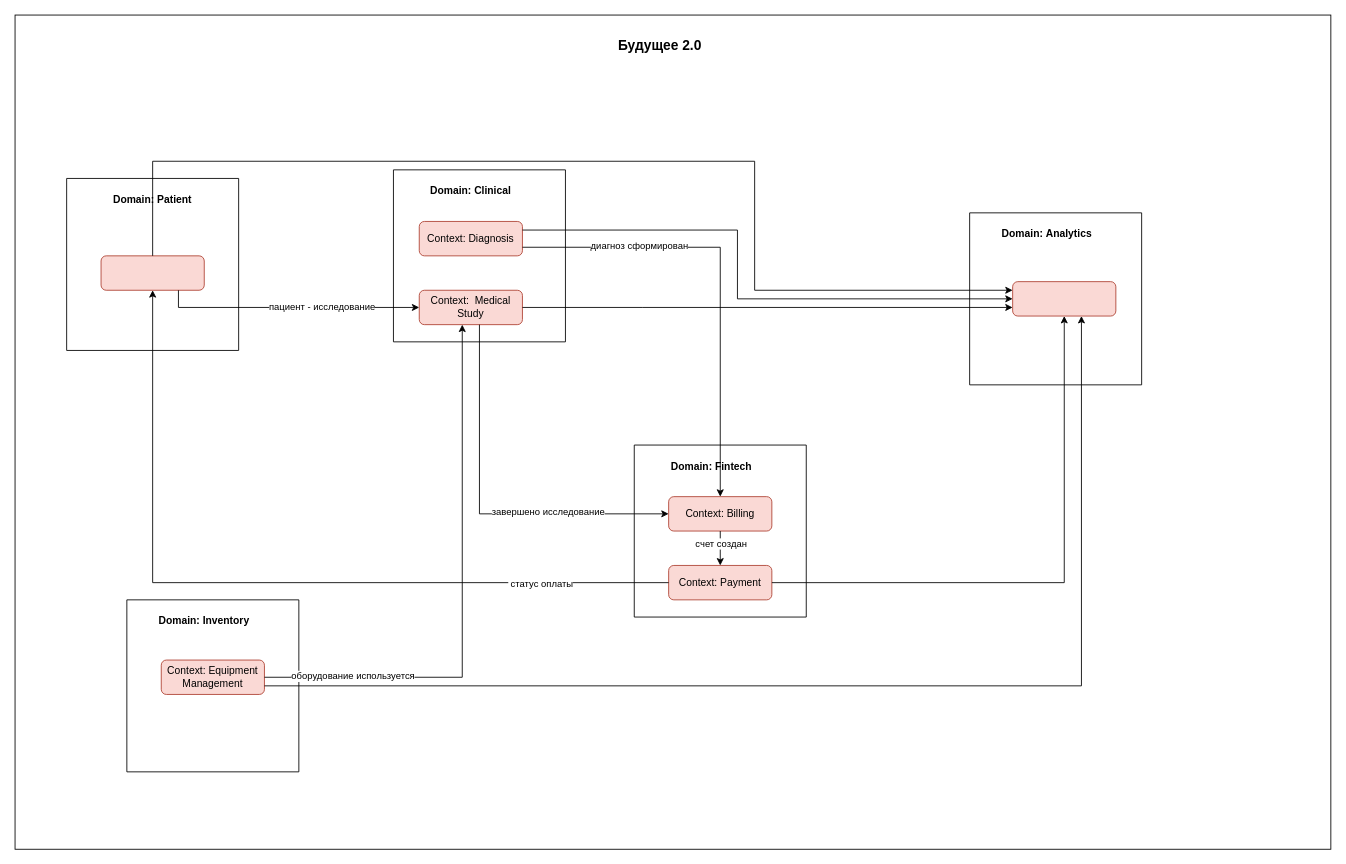
Some shapes in this 1346 by 864 pixel diagram are drawn without their labels. The centre of each missing label's shape, as x and y in pixels:
"Context: Analytics Processing" goes at [1064,298].
"Context: Patient Management" goes at [152,272].
